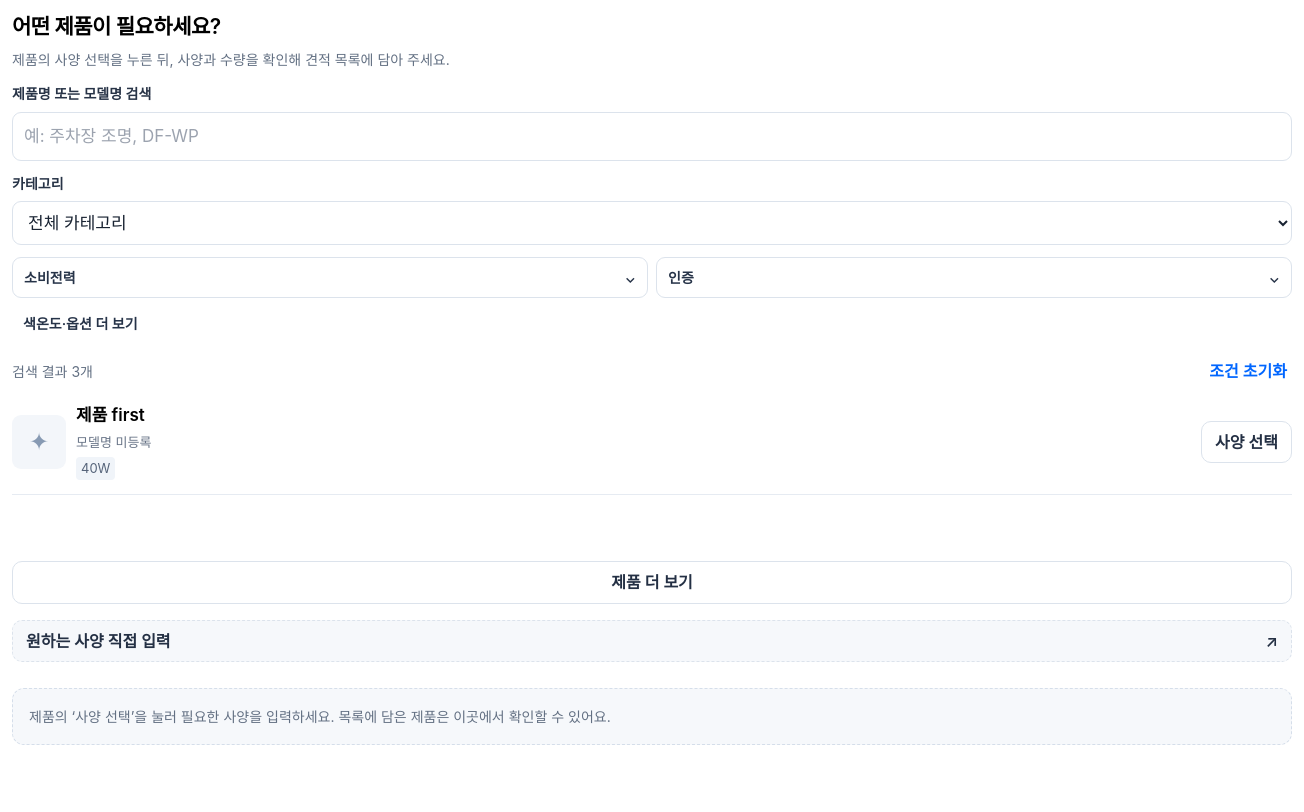
Scenario: catalog append and selection continuity › ignores an append response after filters change
Click the button "제품 더 보기": (652, 583) [12,562,1292,604]
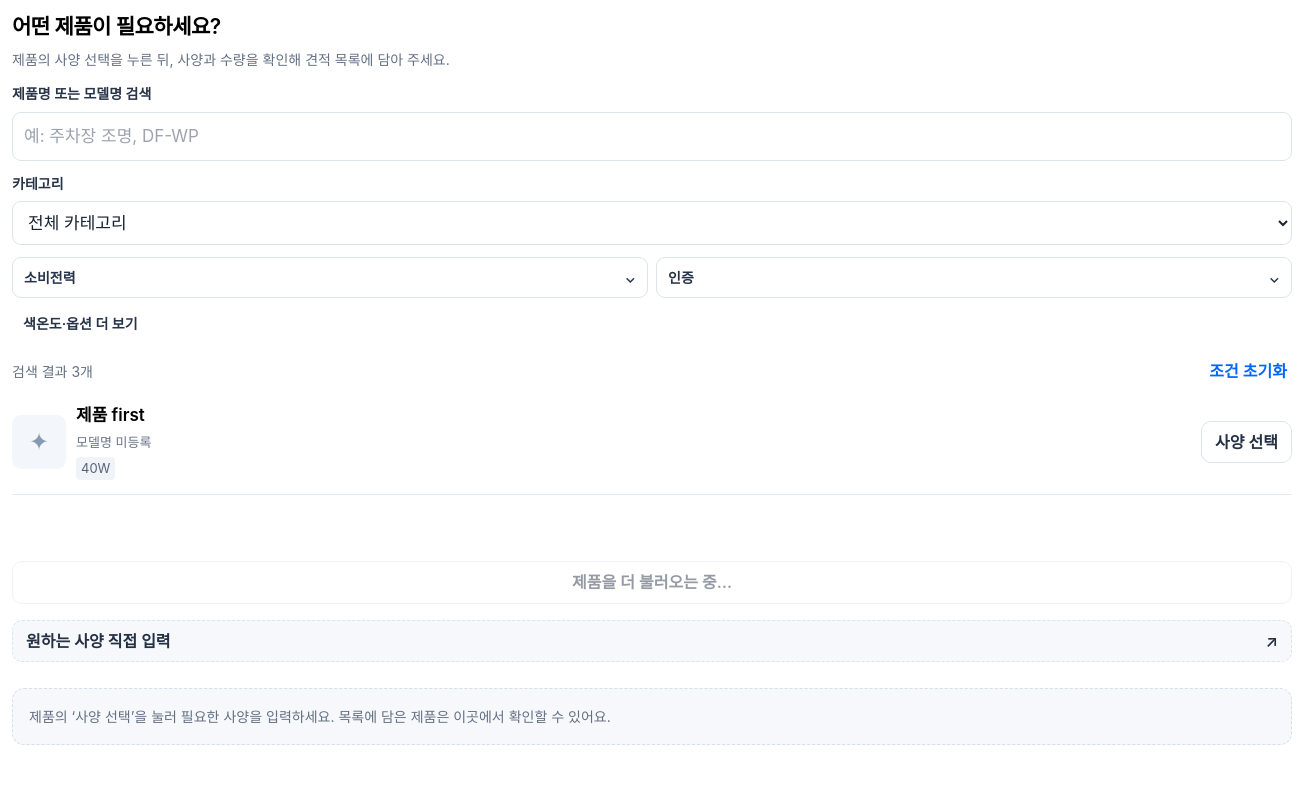
In the search field labelled "제품명 또는 모델명 검색": (652, 136) [12,112,1292,161], type "filtered"
Wait 300 ms
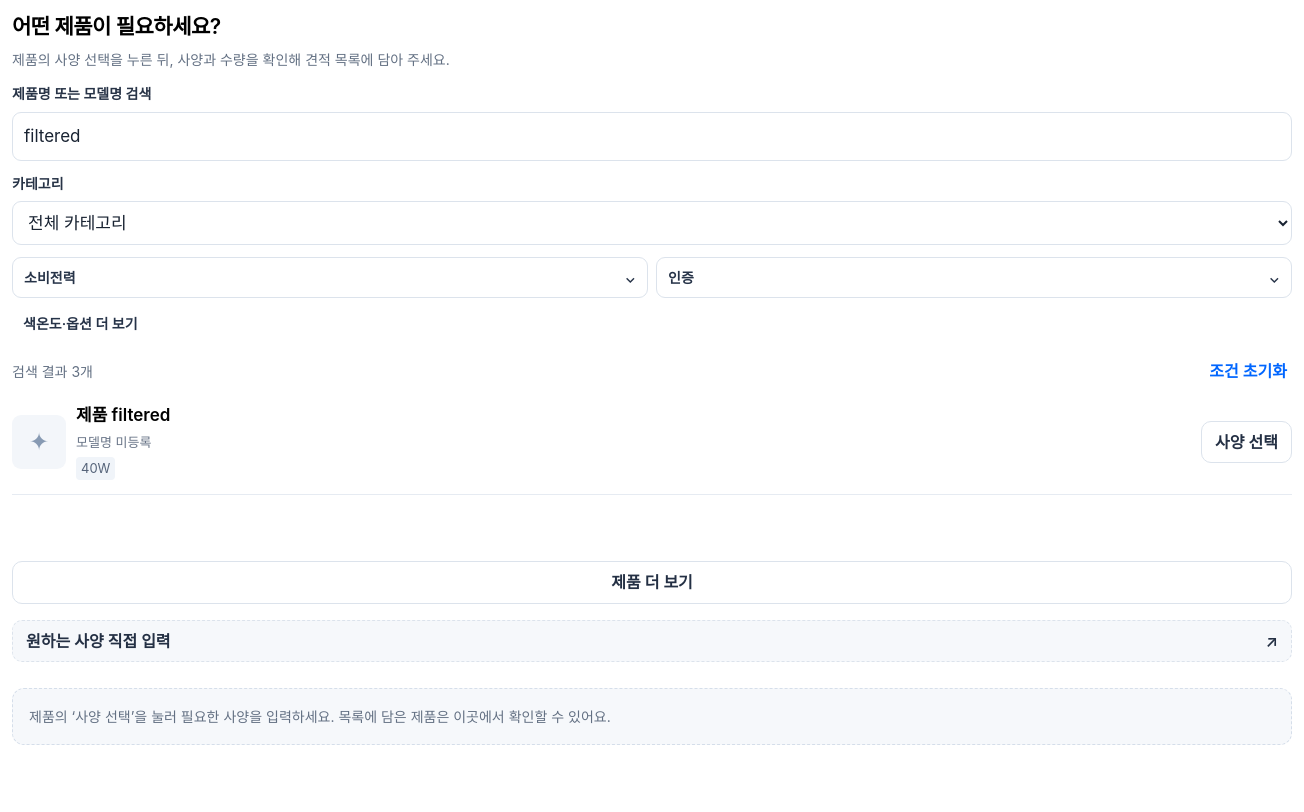
Expected: the element showing "✦ 제품 filtered 모델명 미등록 40W 사양 선택" is shown, [12,390,1292,496]
